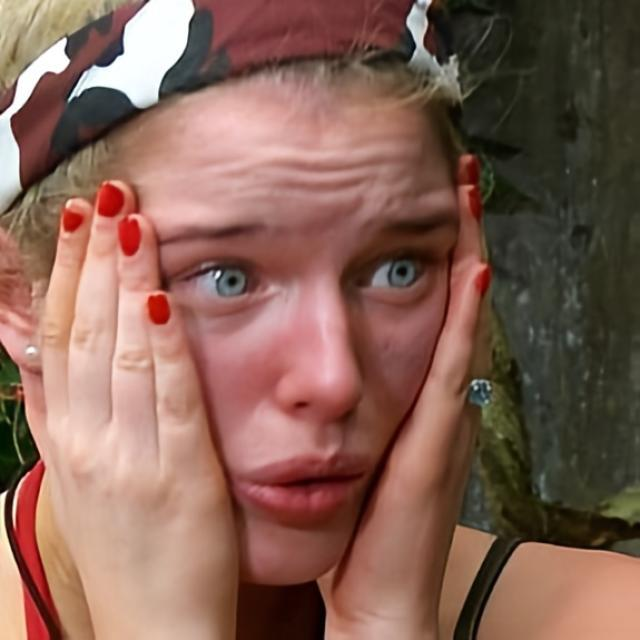fear: (134, 58, 463, 589)
